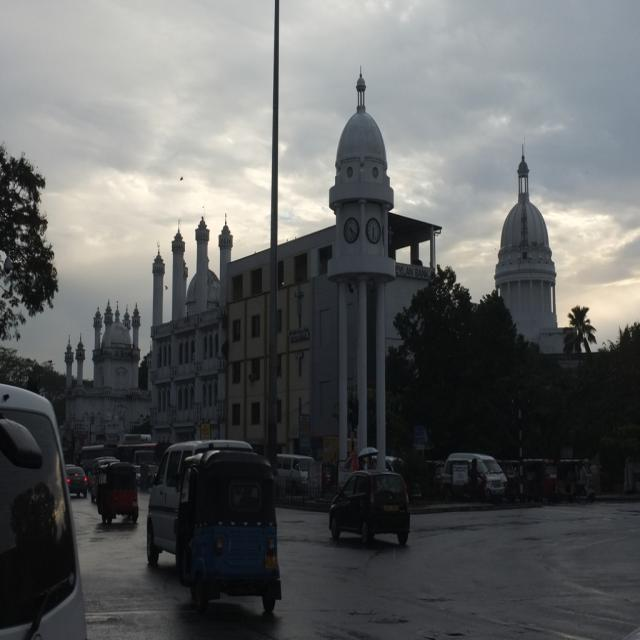car: (326, 472, 410, 548)
